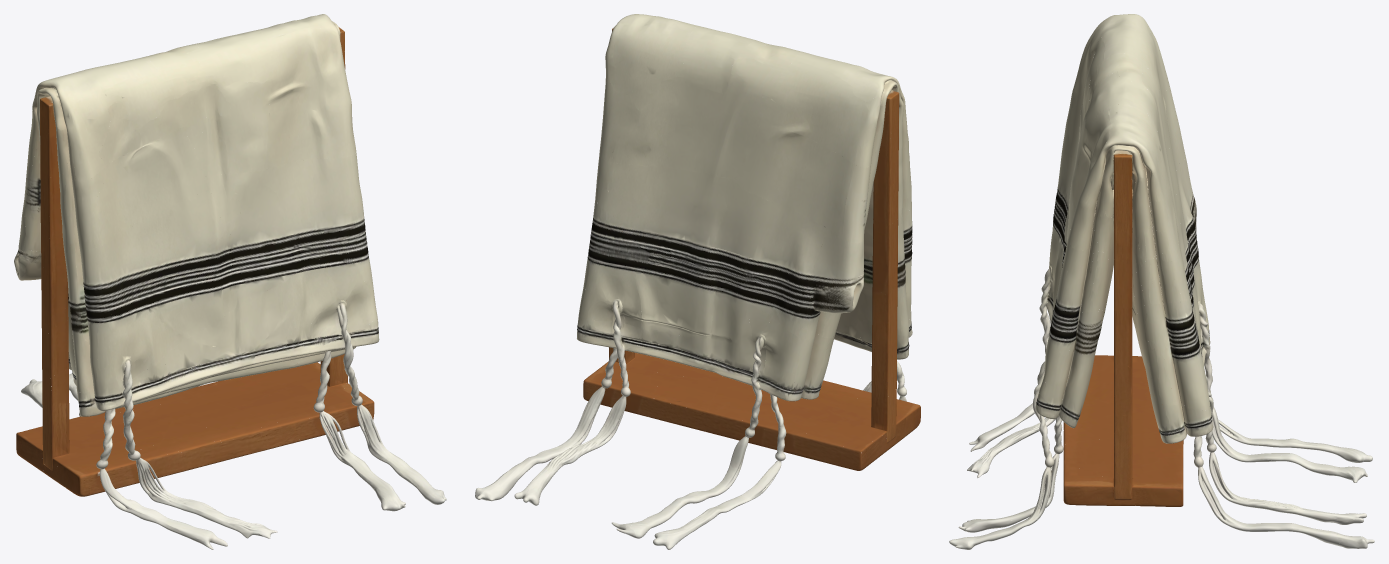
File: tallit.glb
3 renders of one model, left to right at view 1: azimuth 30°, elevation 25°; view 2: azimuth 150°, elevation 25°; view 3: azimuth 270°, elevation 25°, orthographic. The views are drawn at different scales.
Visible parts, largest first — view 1: tripo_node_ee10f232-6fd4-4a99-8238-f7c49ca02378; view 2: tripo_node_ee10f232-6fd4-4a99-8238-f7c49ca02378; view 3: tripo_node_ee10f232-6fd4-4a99-8238-f7c49ca02378.
Part boxes in pixels (x1,y1,x2,y2): tripo_node_ee10f232-6fd4-4a99-8238-f7c49ca02378: (14, 14, 446, 549); tripo_node_ee10f232-6fd4-4a99-8238-f7c49ca02378: (475, 14, 920, 549); tripo_node_ee10f232-6fd4-4a99-8238-f7c49ca02378: (949, 14, 1374, 549).
Bounding box in the file's own units: 0.7506 × 0.9803 × 0.9373.
1 material, 1 textured.
